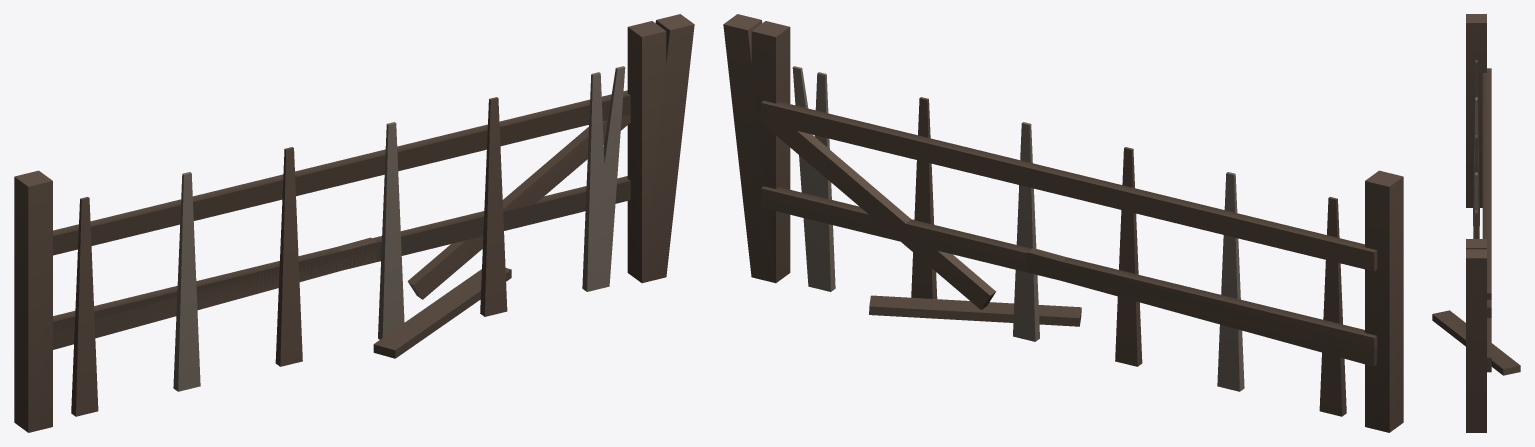
The model's file is kit_fence_break.glb.
The picture shows the model from 3 angles, left to right: view 1: azimuth 30°, elevation 25°; view 2: azimuth 150°, elevation 25°; view 3: azimuth 270°, elevation 25°; orthographic projection. The views are drawn at different scales.
Visible parts, largest first — view 1: fence_whole, fence_broken; view 2: fence_whole, fence_broken; view 3: fence_broken, fence_whole.
Part boxes in pixels (x1=…): fence_whole: x1=53, y1=21, x2=666, y2=366; fence_broken: x1=14, y1=14, x2=694, y2=432; fence_whole: x1=751, y1=21, x2=1377, y2=366; fence_broken: x1=723, y1=14, x2=1403, y2=432; fence_broken: x1=1432, y1=14, x2=1520, y2=432; fence_whole: x1=1466, y1=68, x2=1491, y2=372.
Size of the model in its own units: 3.26 by 1.15 by 0.499.
